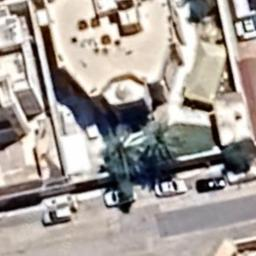SUV: (40, 206, 72, 225)
sedan: (104, 190, 136, 208), (154, 180, 188, 196), (196, 176, 226, 193)
